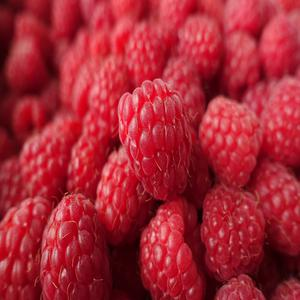raspb: (2, 44, 295, 300)
